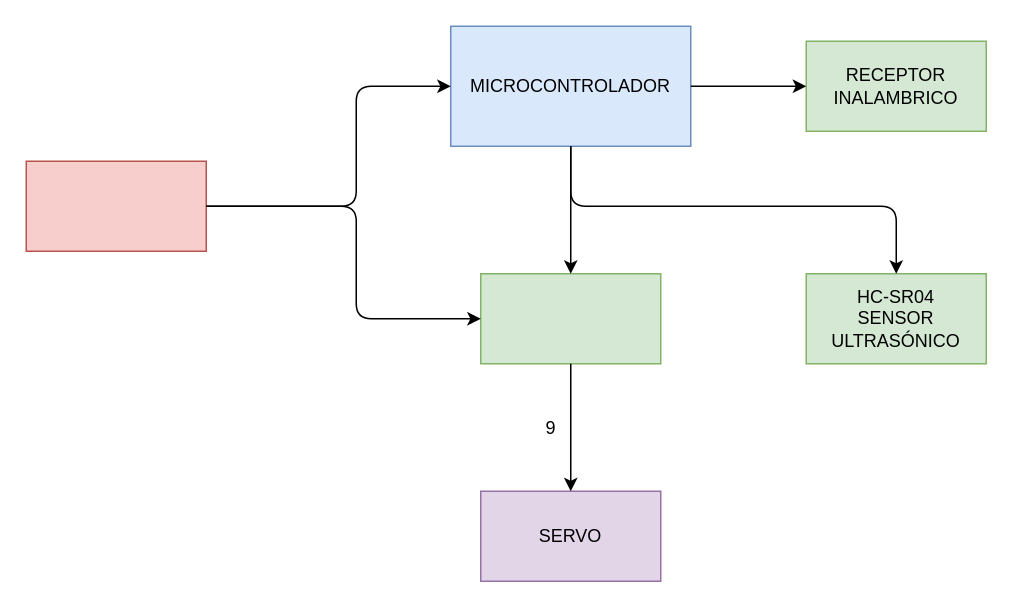
Some shapes in this 1013 by 608 pixel diagram are drawn without their labels. Here are the shapes that lost their labels. From the top down, the box of each, then its label:
(25, 160, 206, 251): ALIMENTACIÓN
(479, 272, 661, 364): PCA9685 CONTROLADOR DE SERVOS
